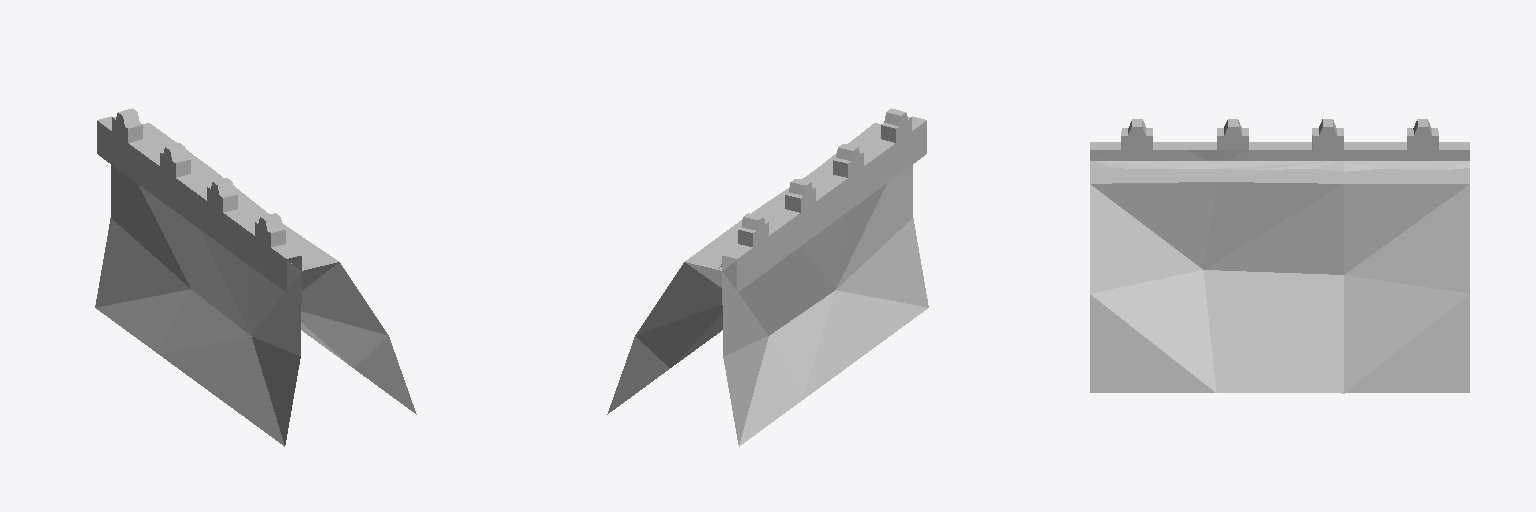
File: templeStraightNarrowLongRightVert_prefab.obj
3 renders of one model, left to right at view 1: azimuth 30°, elevation 25°; view 2: azimuth 150°, elevation 25°; view 3: azimuth 270°, elevation 25°, orthographic.
Parts seen in each view (by area): view 1: Object52-Pivot; view 2: Object52-Pivot; view 3: Object52-Pivot.
Part boxes in pixels (bbox=[...]): Object52-Pivot: bbox=[95, 108, 416, 446]; Object52-Pivot: bbox=[607, 108, 928, 446]; Object52-Pivot: bbox=[1090, 119, 1469, 393].
Size of the model in its own units: 24.07 by 36.77 by 60.17.